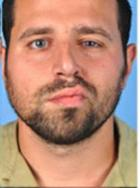strokeEyeMid: (16, 25, 114, 56)
strokeMouthWeak: (47, 84, 89, 108)
